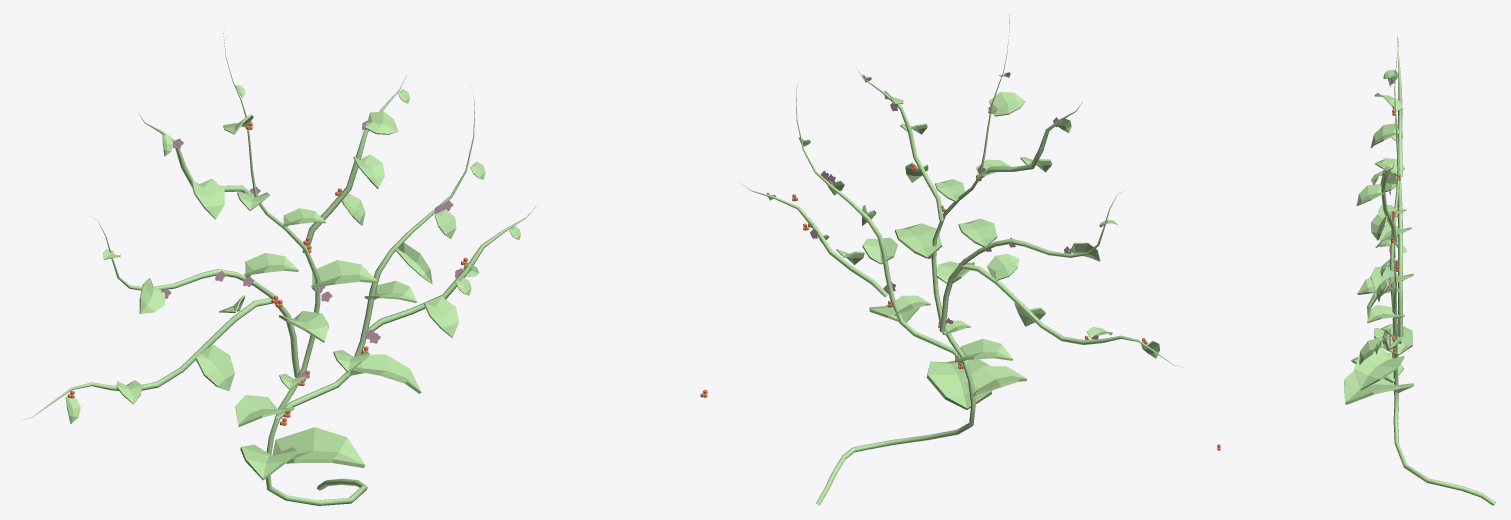
The model's file is Level3.3.fbx.
3 views of the same model, side by side, from view 1: azimuth 30°, elevation 25°; view 2: azimuth 150°, elevation 25°; view 3: azimuth 270°, elevation 25° (orthographic). The views are drawn at different scales.
Parts seen in each view (by area): view 1: Stem1.001, Leaf1.003, Stem1.002, Stem1.004, Stem1.005, Leaf1.002, Leaf1.014, Leaf1.013, Leaf1.005, Stem1.006, Leaf1.001, Leaf1.016 (+4 smaller); view 2: Stem1.001, Leaf1.003, Stem1.002, Stem1.004, Stem1.005, Leaf1.005, Leaf1.013, Leaf1.001, Stem1.006, Leaf1.010, Stem1.007, Leaf1.018 (+3 smaller); view 3: Stem1.001, Leaf1.002, Leaf1.003, Stem1.004, Stem1.003, Leaf1.013, Stem1.002, Leaf1.012, Leaf1.016, Leaf1.019, Stem1.007.
Boxes of the visible parts, x1,y1,x2,y2 form: Stem1.001: (223, 33, 367, 505); Leaf1.003: (272, 427, 365, 467); Stem1.002: (275, 91, 474, 419); Stem1.004: (90, 216, 299, 377); Stem1.005: (21, 298, 272, 420); Leaf1.002: (350, 354, 421, 393); Leaf1.014: (195, 344, 234, 390); Leaf1.013: (311, 260, 377, 290); Leaf1.005: (240, 444, 297, 480); Stem1.006: (360, 205, 537, 334); Leaf1.001: (235, 395, 294, 426); Leaf1.016: (191, 178, 224, 219); Stem1.001: (816, 14, 1009, 505); Leaf1.003: (926, 359, 992, 409); Stem1.002: (796, 82, 967, 362); Stem1.004: (939, 192, 1121, 332); Stem1.005: (960, 264, 1182, 367); Leaf1.005: (964, 366, 1027, 396); Leaf1.013: (895, 223, 941, 258); Leaf1.001: (955, 338, 1012, 363); Stem1.006: (738, 181, 888, 296); Leaf1.010: (958, 218, 997, 247); Stem1.007: (855, 66, 943, 220); Leaf1.018: (989, 92, 1025, 116); Stem1.001: (1390, 37, 1496, 505); Leaf1.002: (1354, 348, 1404, 390); Leaf1.003: (1344, 370, 1413, 404); Stem1.004: (1397, 180, 1403, 337); Stem1.003: (1397, 39, 1402, 177); Leaf1.013: (1370, 267, 1413, 291); Stem1.002: (1392, 215, 1397, 358); Leaf1.012: (1367, 304, 1404, 323); Leaf1.016: (1370, 123, 1399, 148); Leaf1.019: (1356, 184, 1383, 206); Stem1.007: (1381, 161, 1397, 242).
Bounding box in the file's own units: 2643 × 2461 × 1440.
